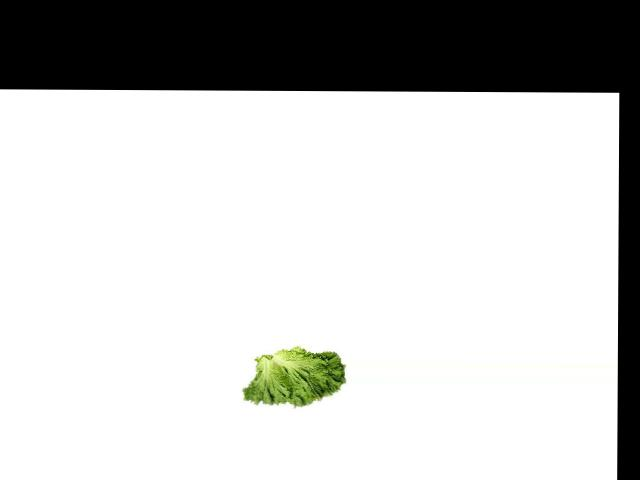lettuce: (243, 342, 346, 415)
